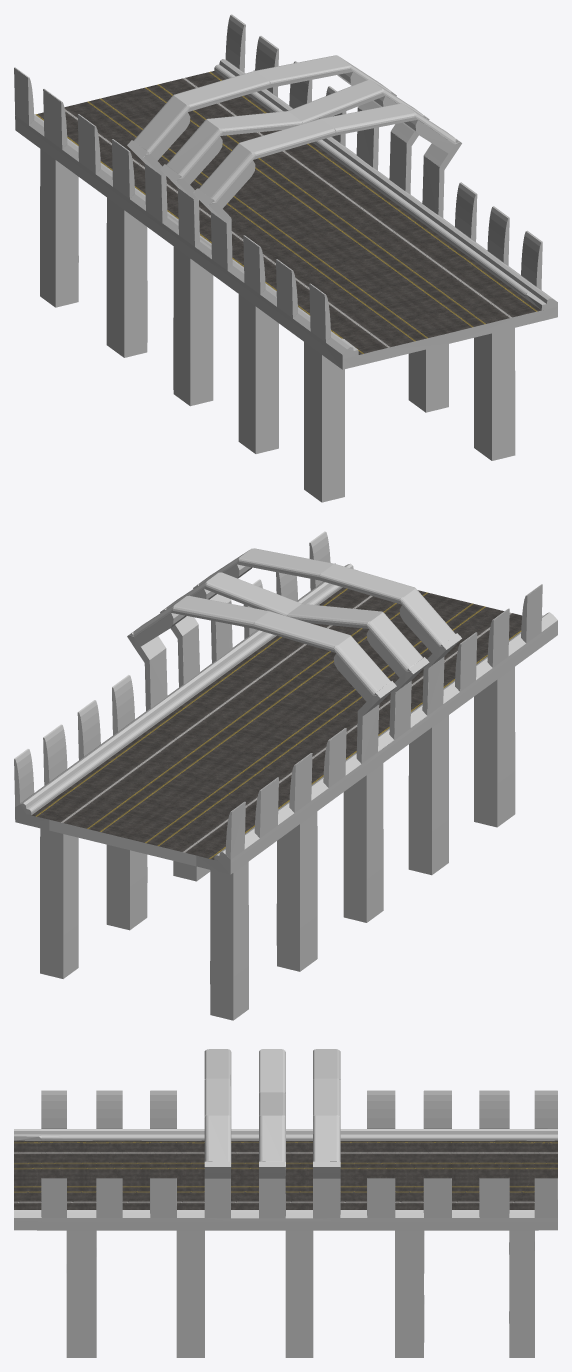
File: intro_bridge1.fbx
The picture shows the model from 3 angles, top to bottom: view 1: azimuth 30°, elevation 25°; view 2: azimuth 150°, elevation 25°; view 3: azimuth 270°, elevation 25°; orthographic projection. The views are drawn at different scales.
Visible parts, largest first — view 1: Cube; view 2: Cube; view 3: Cube.
Part boxes in pixels (x1=…): Cube: x1=14, y1=14, x2=557, y2=502; Cube: x1=14, y1=531, x2=557, y2=1020; Cube: x1=14, y1=1049, x2=557, y2=1357.
Size of the model in its own units: 911 by 992 by 2038.
